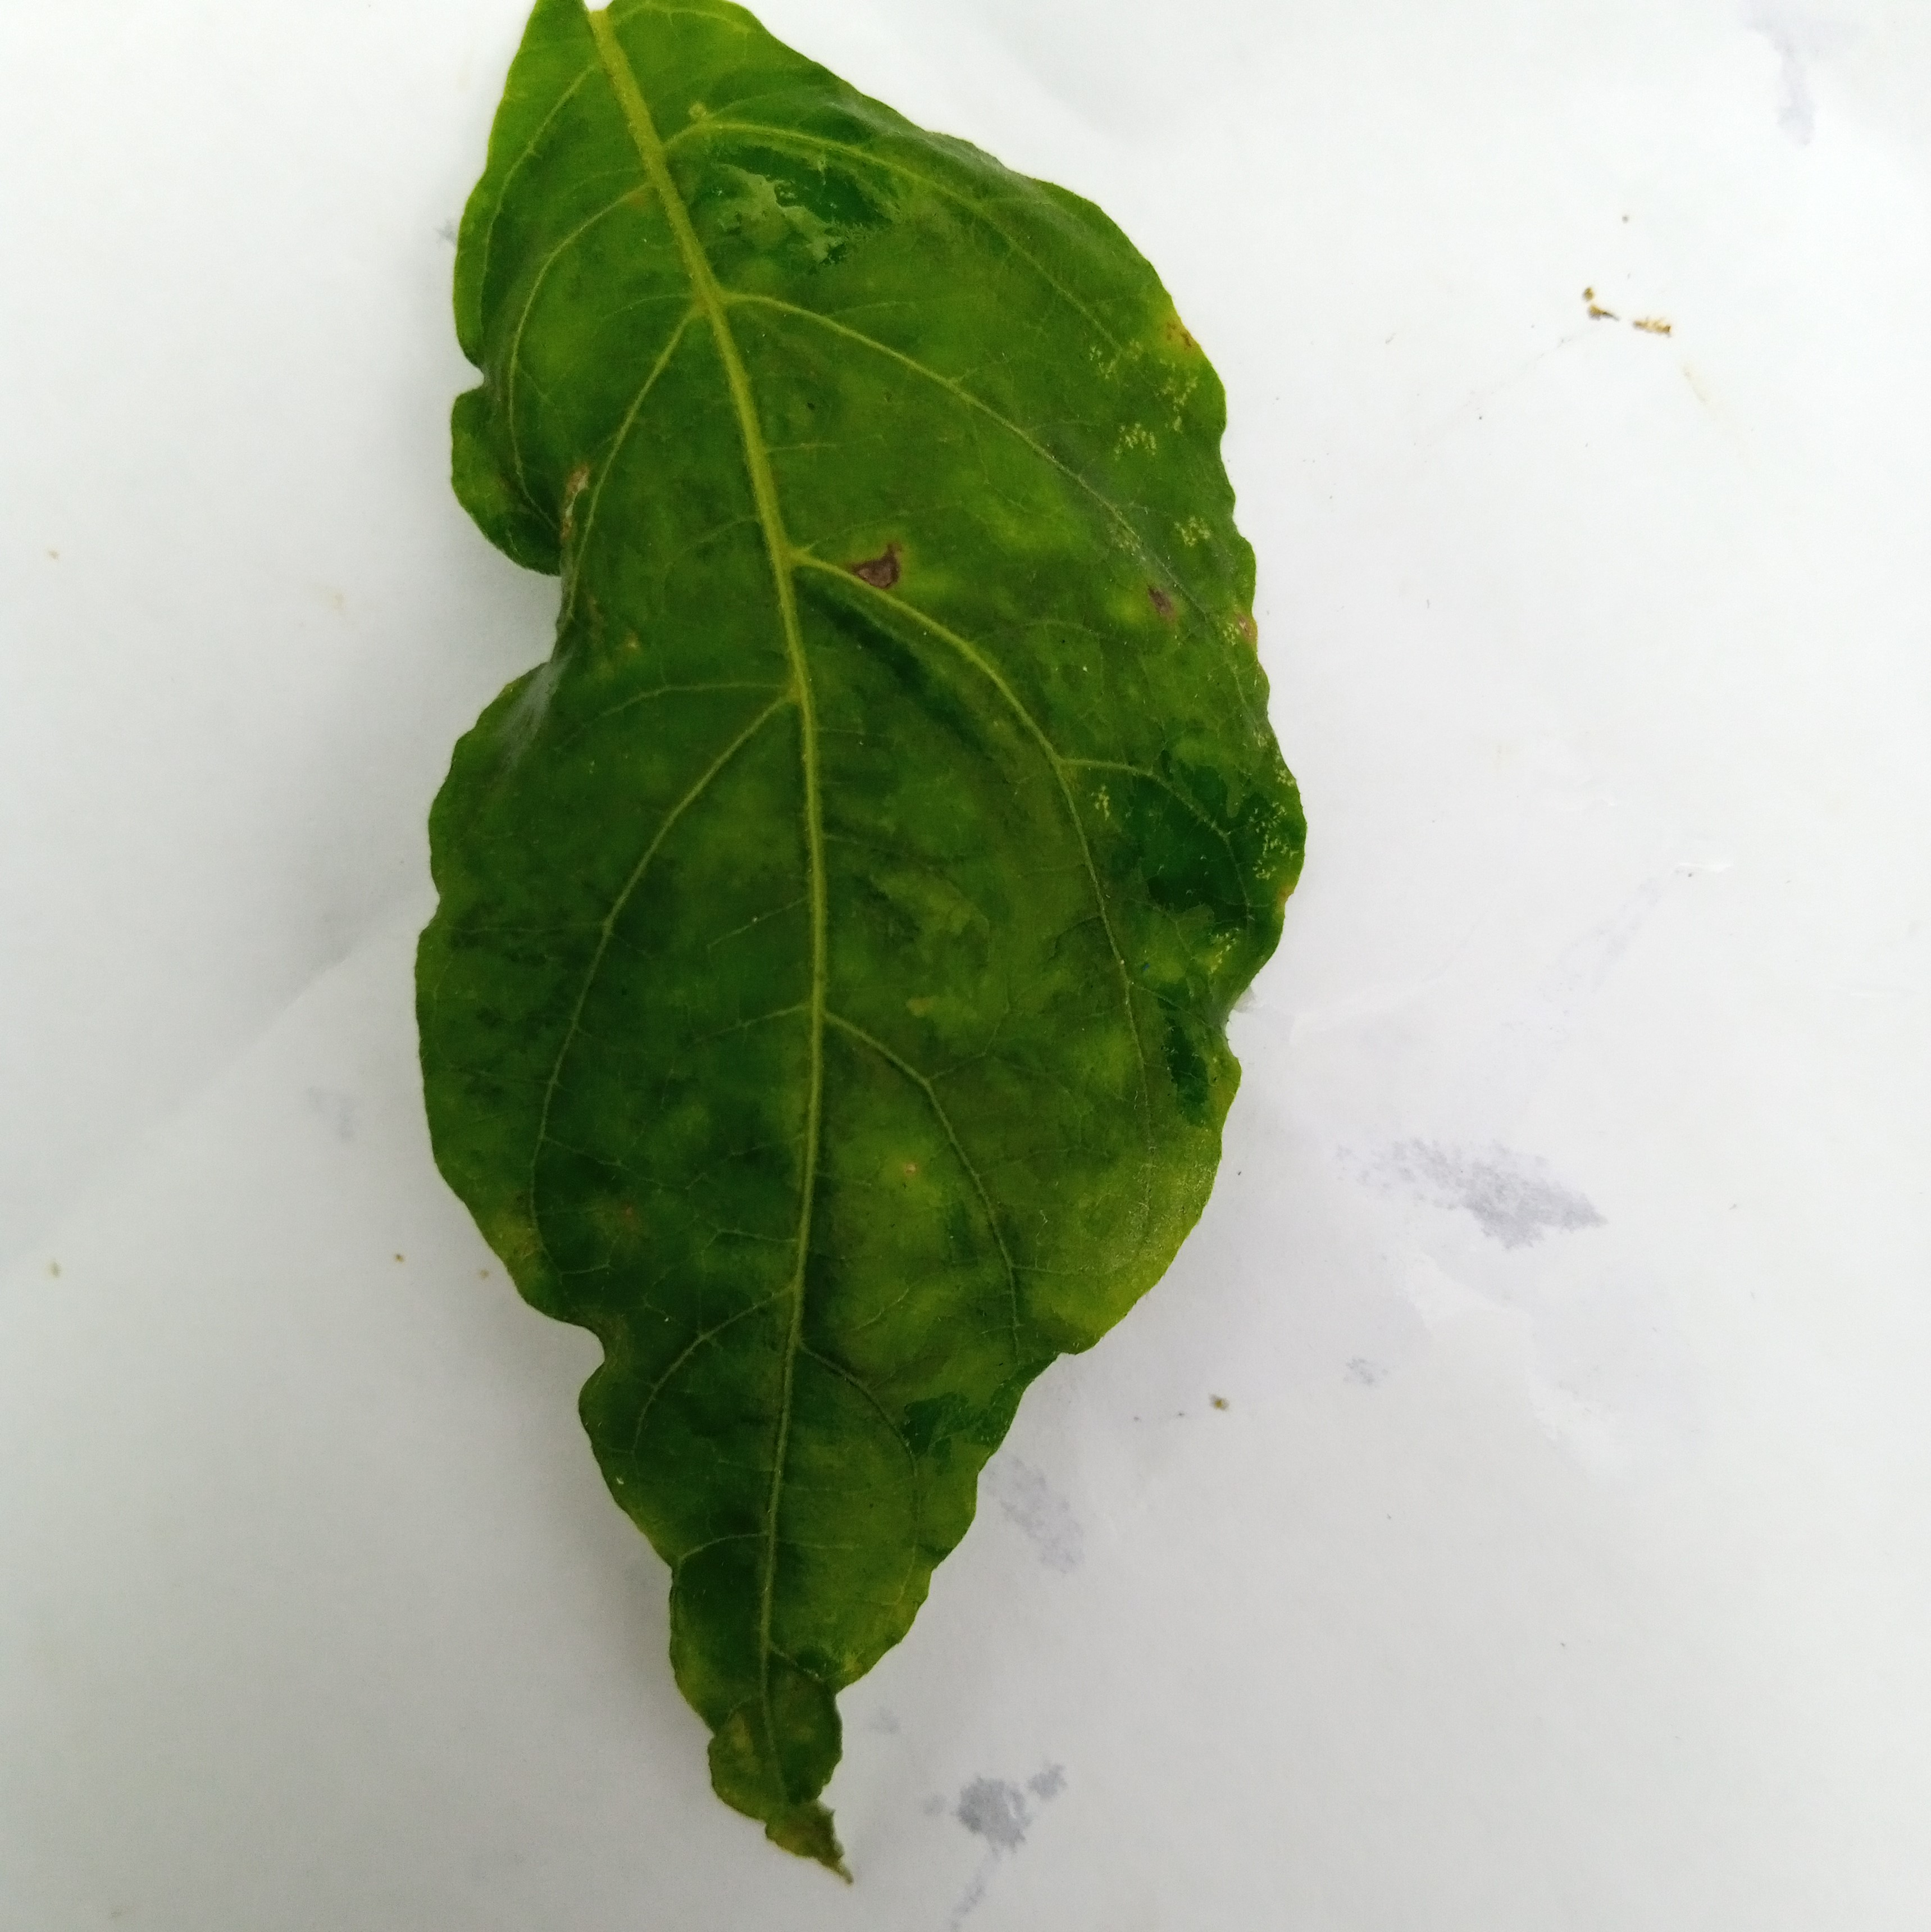Leaf: (184, 0, 1464, 1923)
